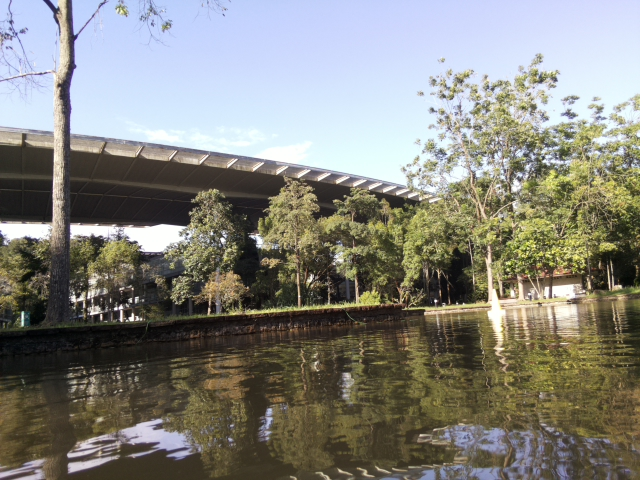checkpoint: (487, 287, 506, 318)
